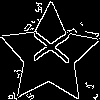X: (24, 29, 70, 64)
